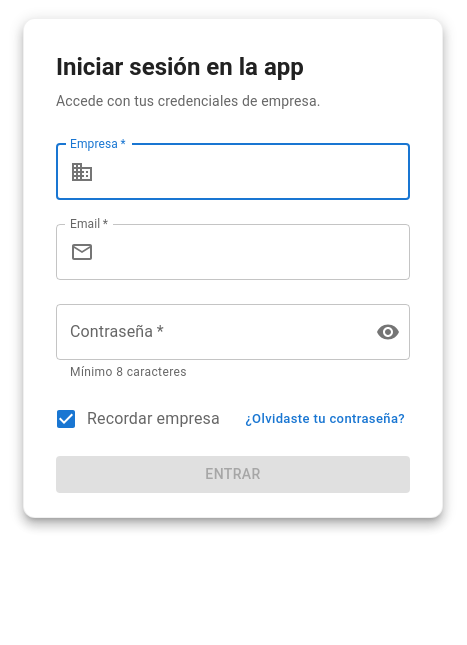
Test: LoginForm Component › Form Submission - Error Handling › should display generic error message when no specific error detail
Type "test-company" into the field labelled "Empresa *" at (256, 172), box [102,144,410,200]
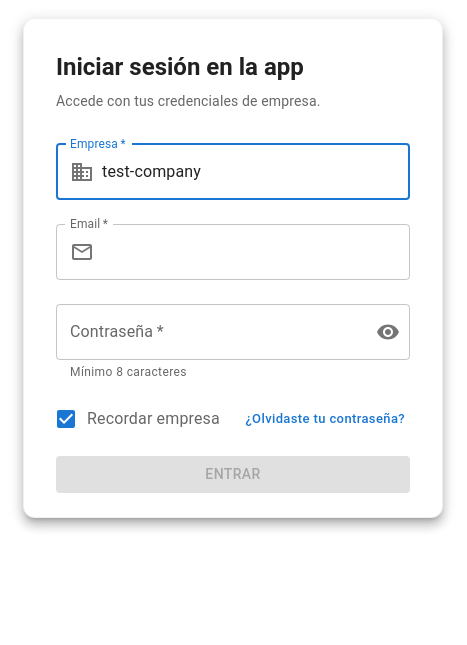
Type "user@example.com" into the field labelled "Email *" at (256, 252), box [102,224,410,280]
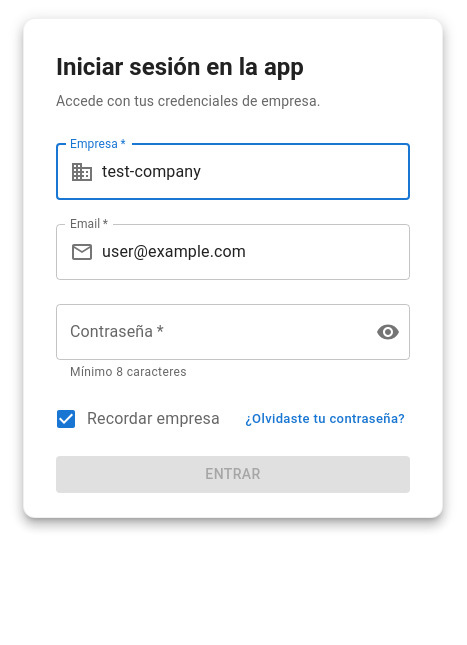
Type "password123" into the password field labelled "Contraseña *" at (208, 332), box [56,304,360,360]
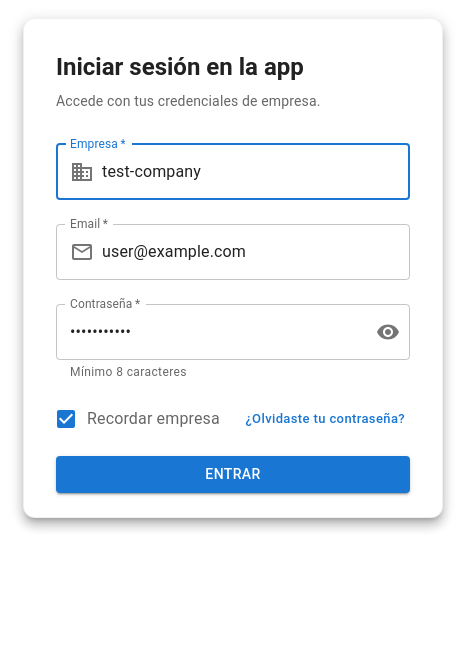
Click the button "Entrar" at (233, 475), box [56,456,410,493]
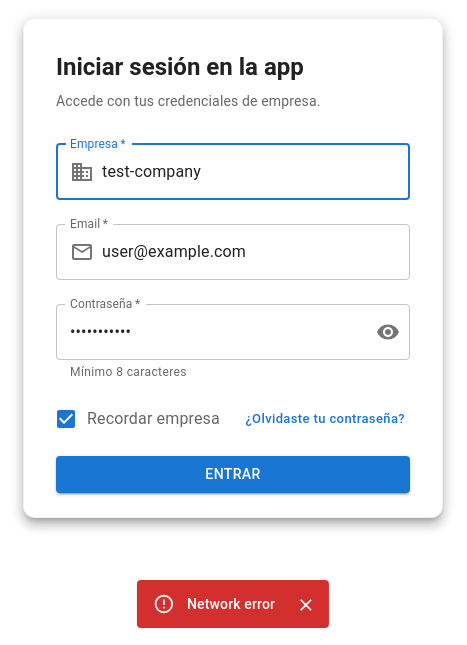
Expected: the text "Network error" is shown, [187,596,275,612]
